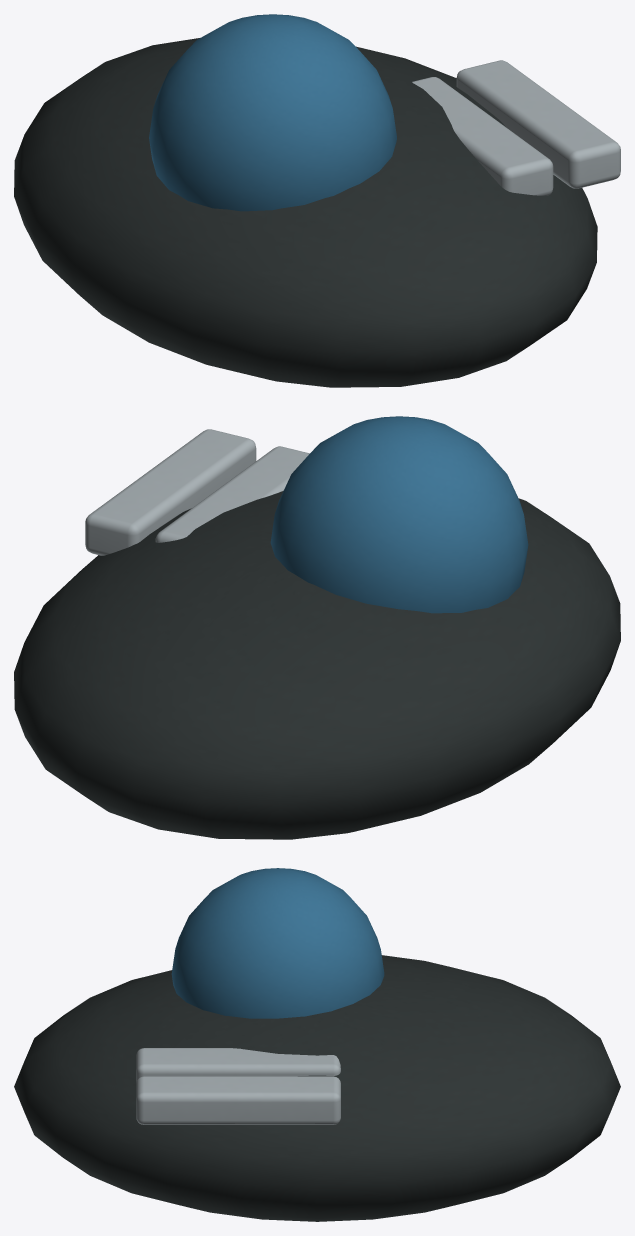
File: trackball.glb
3 views of the same model, one above another, from view 1: azimuth 30°, elevation 25°; view 2: azimuth 150°, elevation 25°; view 3: azimuth 270°, elevation 25° (orthographic). The views are drawn at different scales.
Parts seen in each view (by area): view 1: Trackball control case, Exposed tracking ball, Trackball button.001, Trackball button; view 2: Trackball control case, Exposed tracking ball, Trackball button.001, Trackball button; view 3: Trackball control case, Exposed tracking ball, Trackball button.001, Trackball button.
Boxes of the visible parts, x1,y1,x2,y2 form: Trackball control case: (14, 38, 597, 387); Exposed tracking ball: (149, 14, 396, 211); Trackball button.001: (456, 60, 620, 188); Trackball button: (412, 77, 553, 195); Trackball control case: (14, 491, 620, 839); Exposed tracking ball: (270, 416, 528, 613); Trackball button.001: (85, 429, 256, 555); Trackball button: (155, 446, 309, 542); Trackball control case: (14, 955, 620, 1221); Exposed tracking ball: (171, 868, 384, 1018); Trackball button.001: (136, 1076, 340, 1124); Trackball button: (136, 1048, 340, 1082).
Size of the model in its own units: 0.118 by 0.078 by 0.154.
Materials: 3 (3 with a texture image).
